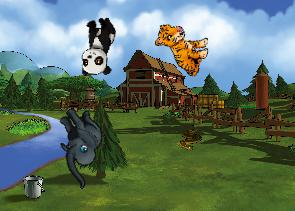elephant: (36, 100, 123, 189)
panda: (79, 15, 116, 77)
tiger: (149, 20, 213, 78)
